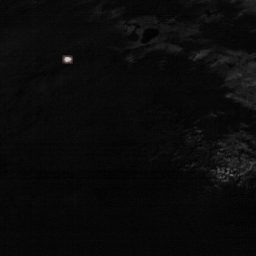Target: (63, 55, 71, 63)
